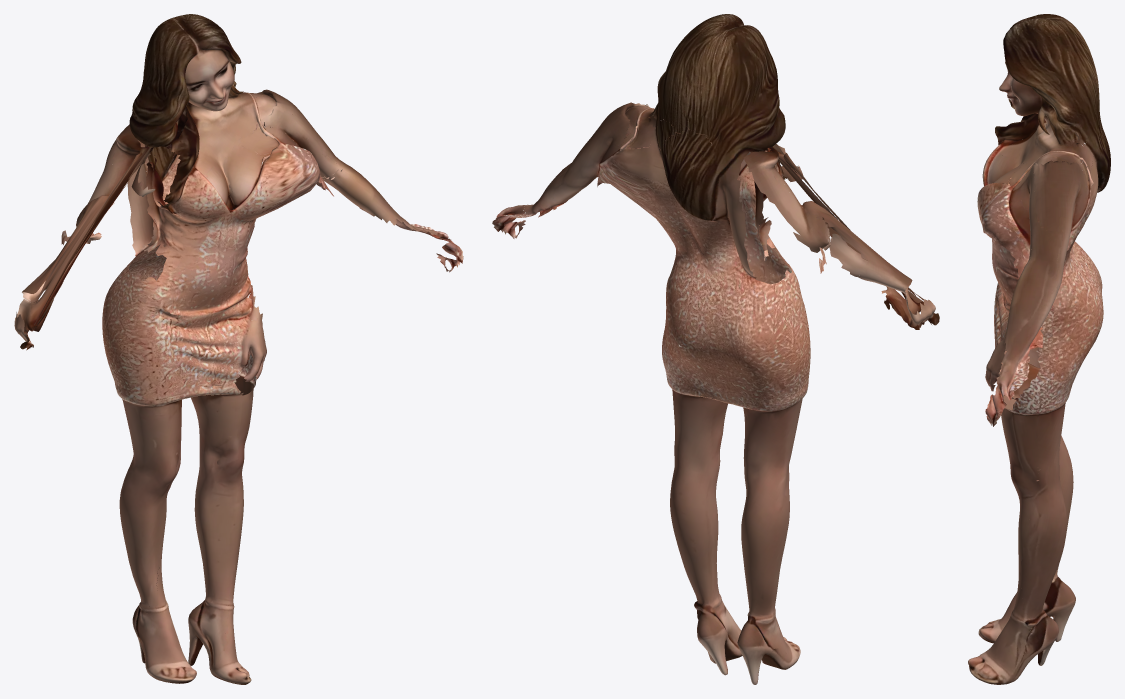
File: lola.fbx
The picture shows the model from 3 angles, left to right: view 1: azimuth 30°, elevation 25°; view 2: azimuth 150°, elevation 25°; view 3: azimuth 270°, elevation 25°; orthographic projection.
Visible parts, largest first — view 1: model; view 2: model; view 3: model.
Part boxes in pixels (x1=…): model: x1=14, y1=14, x2=463, y2=684; model: x1=492, y1=14, x2=939, y2=684; model: x1=968, y1=14, x2=1110, y2=684.
Bounding box in the file's own units: 1.36 × 1.93 × 0.3818.
1 material, 1 textured.
